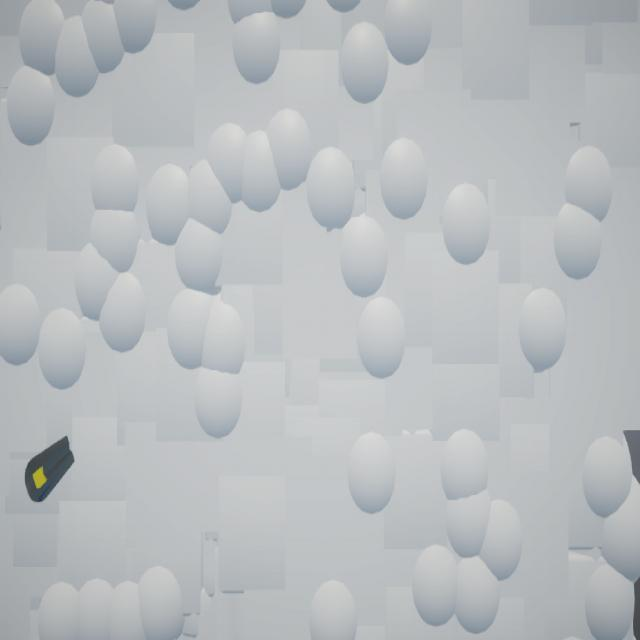handle_folk: (25, 436, 76, 504)
